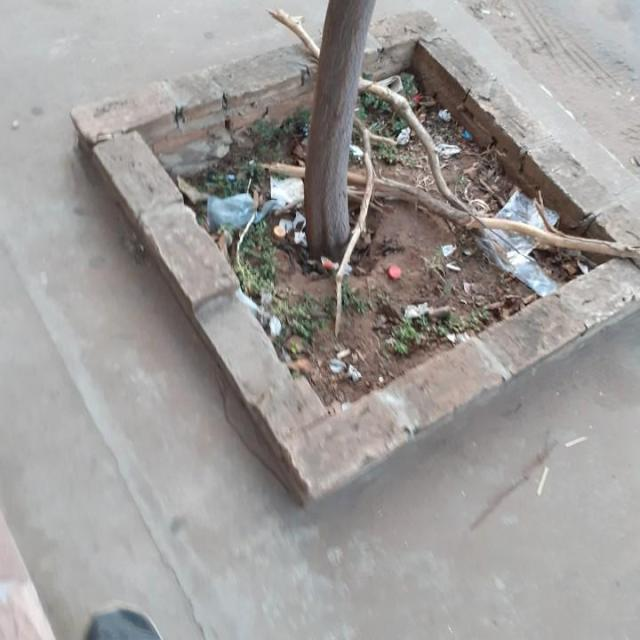litter: (207, 194, 285, 232)
